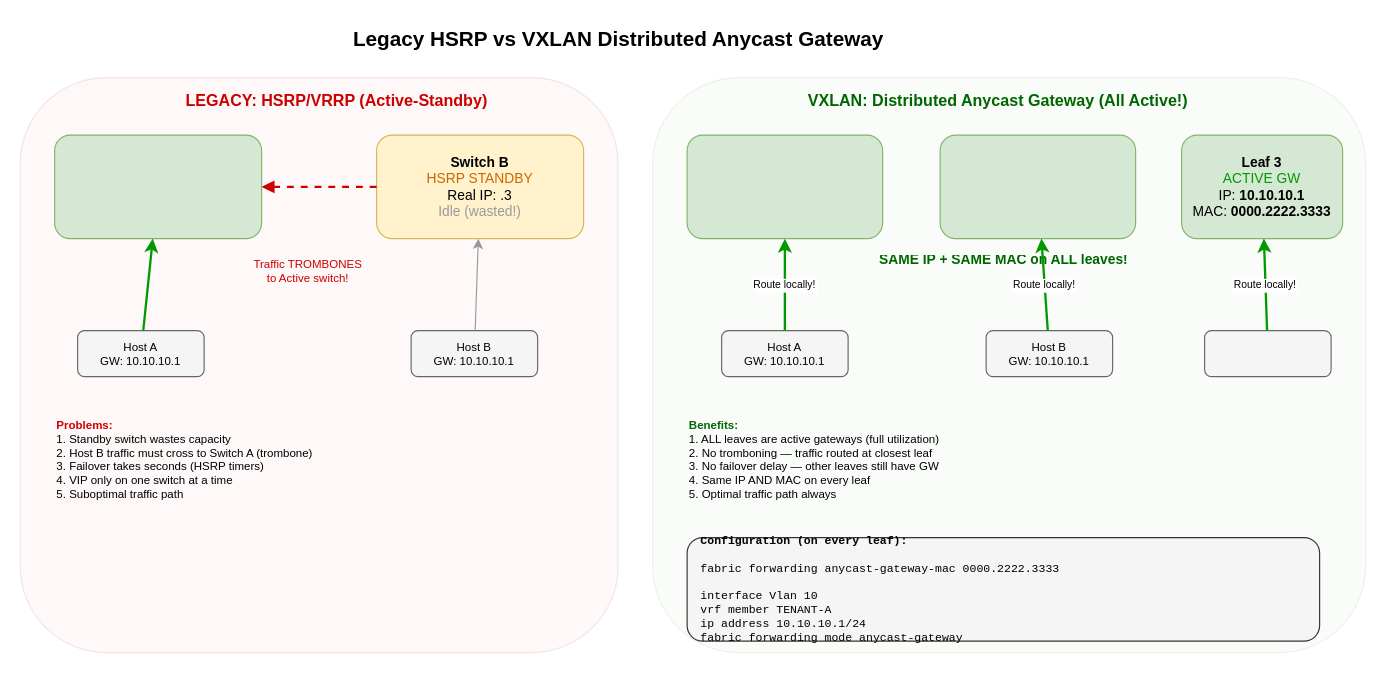
Some shapes in this 1386 by 673 pixel diagram are drawn without their labels. Each missing label, with the box of its shape:
Host C GW: 10.10.10.1: (1203, 329, 1331, 377)
Leaf 1 ACTIVE GW IP: 10.10.10.1 MAC: 0000.2222.3333: (686, 134, 883, 239)
Leaf 2 ACTIVE GW IP: 10.10.10.1 MAC: 0000.2222.3333: (939, 134, 1136, 239)
Switch A HSRP ACTIVE Real IP: .2 VIP: .1 VMAC: 0000.0c07.ac0a: (53, 134, 262, 239)
